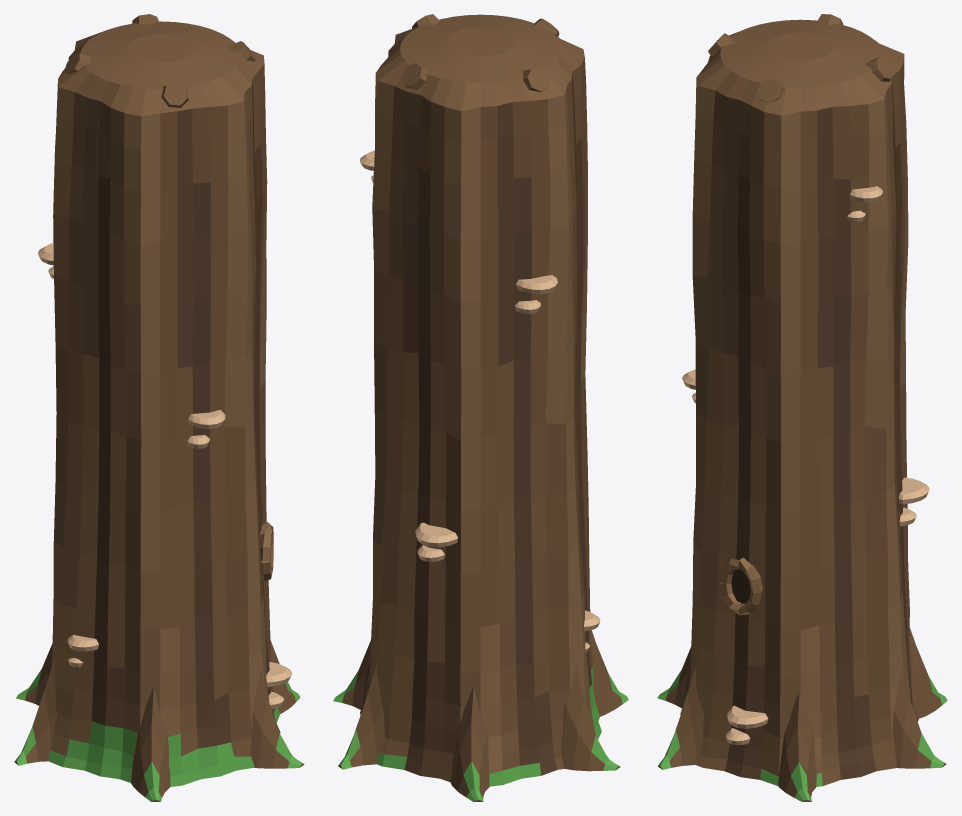
The model's file is tree-trunk.glb.
3 renders of one model, left to right at view 1: azimuth 30°, elevation 25°; view 2: azimuth 150°, elevation 25°; view 3: azimuth 270°, elevation 25°, orthographic.
Visible parts, largest first — view 1: tree-trunk; view 2: tree-trunk; view 3: tree-trunk.
Boxes of the visible parts, x1,y1,x2,y2 form: tree-trunk: (14,14,304,801); tree-trunk: (333,14,628,801); tree-trunk: (657,14,947,801).
Bounding box in the file's own units: 38.52 × 89.56 × 34.33.
